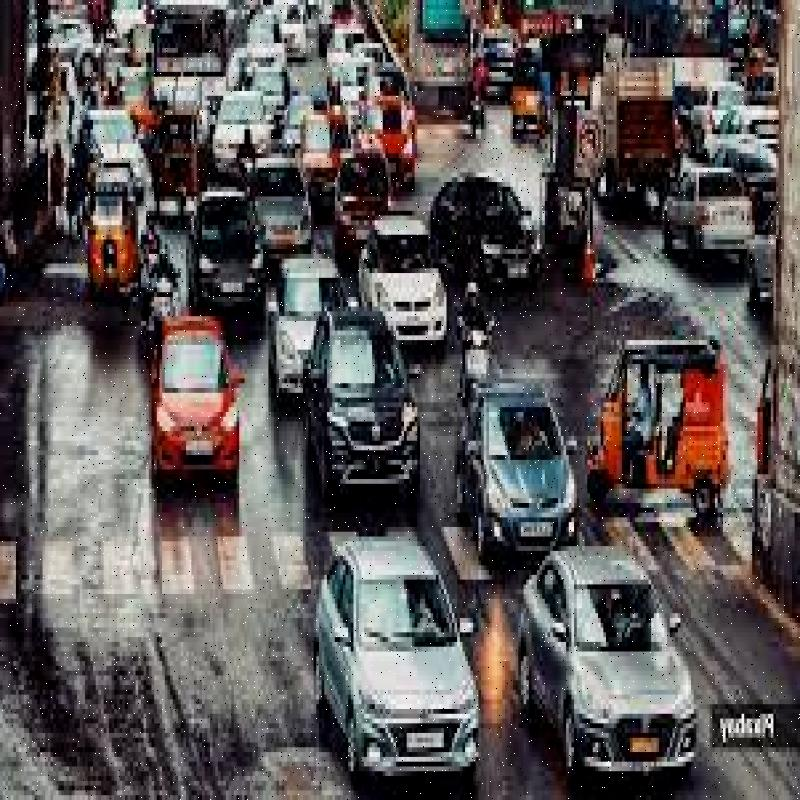auto: (593, 325, 724, 513)
car: (536, 539, 699, 800), (330, 513, 473, 792), (322, 293, 412, 513), (470, 373, 571, 562), (142, 302, 246, 483), (429, 162, 548, 304), (365, 215, 441, 353), (194, 202, 260, 336)
